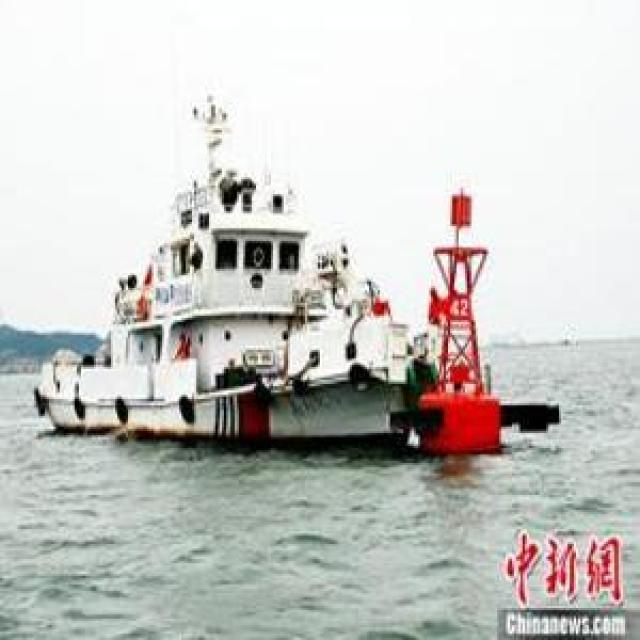houseboat: (31, 146, 416, 442)
